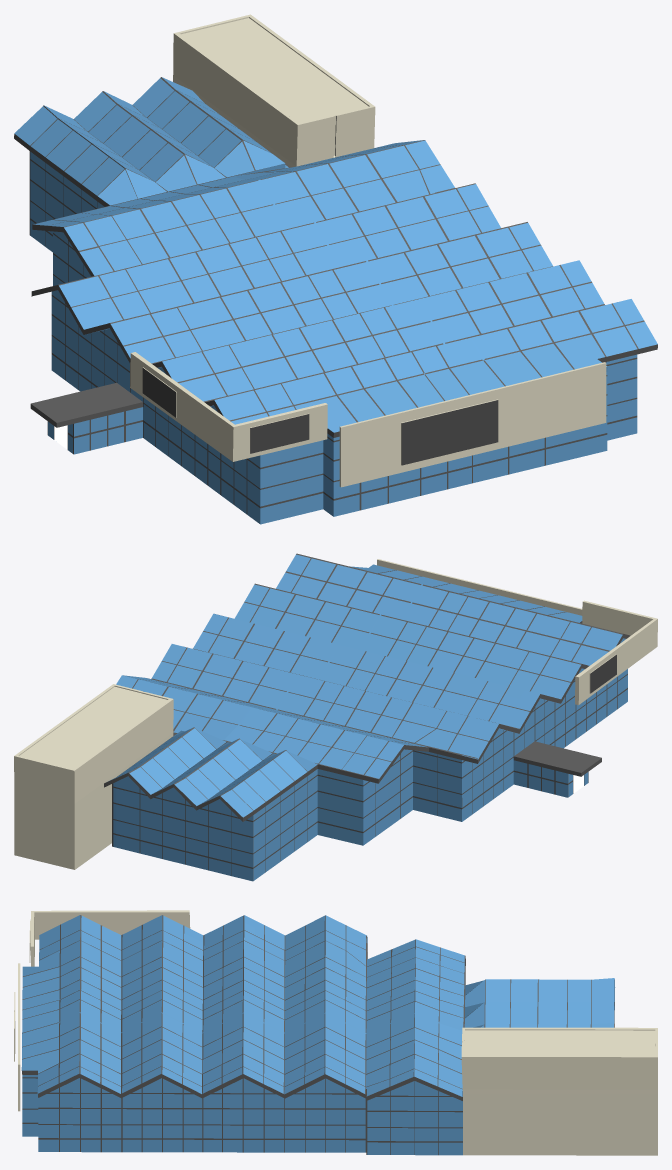
The model's file is bijstox3.glb.
3 views of the same model, one above another, from view 1: azimuth 30°, elevation 25°; view 2: azimuth 150°, elevation 25°; view 3: azimuth 270°, elevation 25° (orthographic). The views are drawn at different scales.
Visible parts, largest first — view 1: 279816862; view 2: 279816862; view 3: 279816862.
Part boxes in pixels (x1,y1,x2,y2): 279816862: (14, 14, 657, 524); 279816862: (14, 553, 657, 881); 279816862: (14, 910, 657, 1155).
Size of the model in its own units: 463 by 114 by 675.
